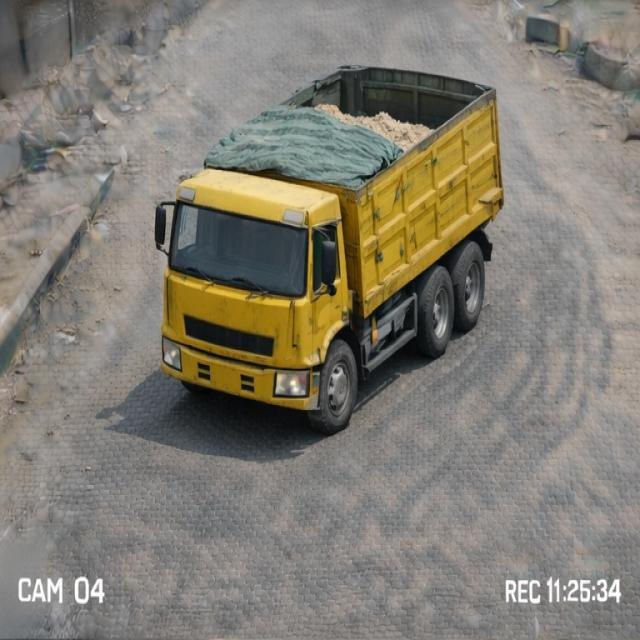Box: (206, 60, 493, 192)
Truck: (151, 51, 504, 432)
